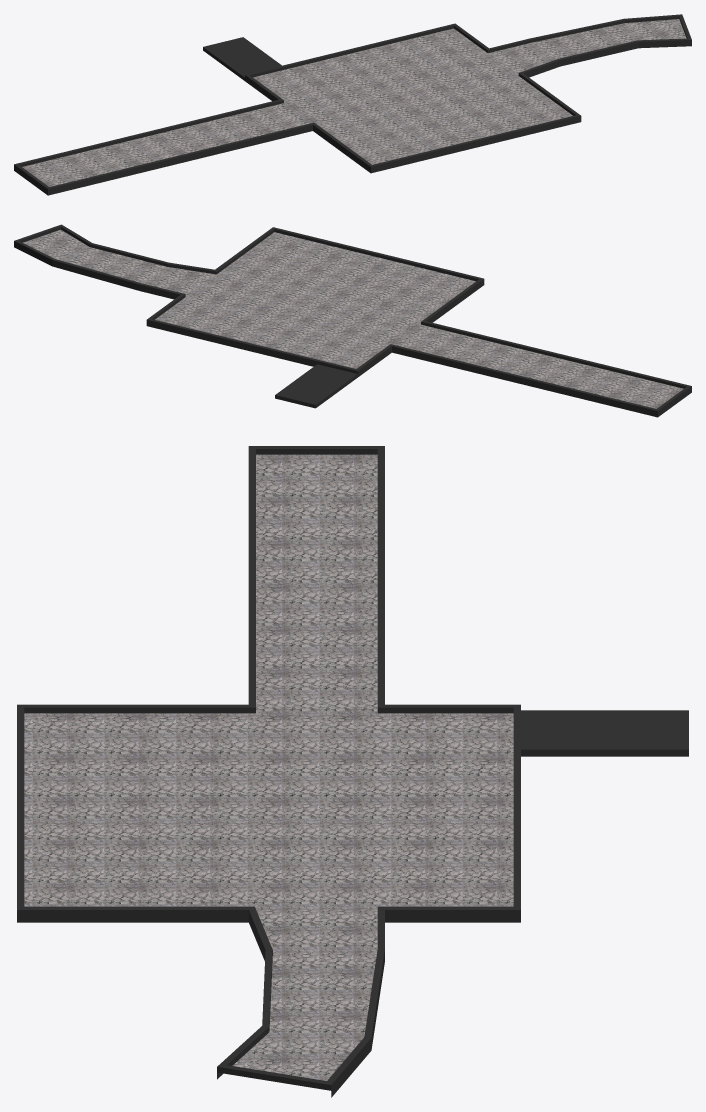
The model's file is floor.fbx.
3 views of the same model, one above another, from view 1: azimuth 30°, elevation 25°; view 2: azimuth 150°, elevation 25°; view 3: azimuth 270°, elevation 25° (orthographic). The views are drawn at different scales.
Parts seen in each view (by area): view 1: Plane.001; view 2: Plane.001; view 3: Plane.001.
Boxes of the visible parts, <box> form: Plane.001: <box>14,14,691,195</box>; Plane.001: <box>14,224,691,417</box>; Plane.001: <box>17,446,688,1097</box>.
Bounding box in the file's own units: 25428 × 238 × 11298.
